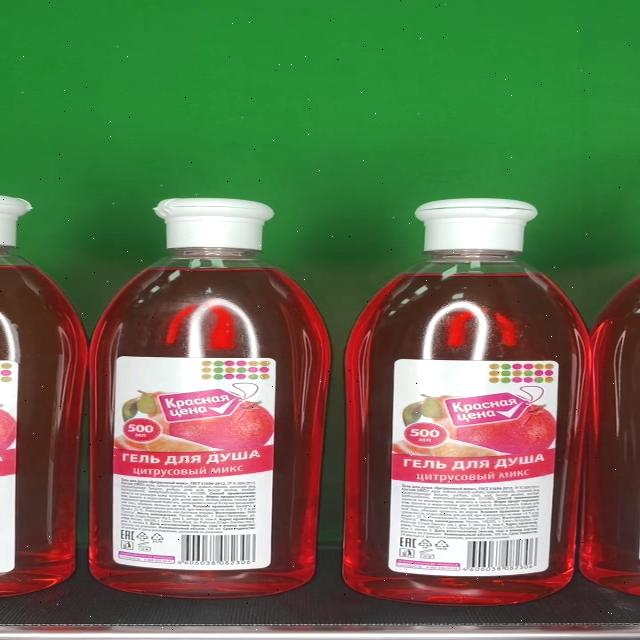Bottle: (344, 199, 594, 606), (87, 197, 332, 598)
Cap: (414, 199, 538, 252), (156, 198, 276, 249)
